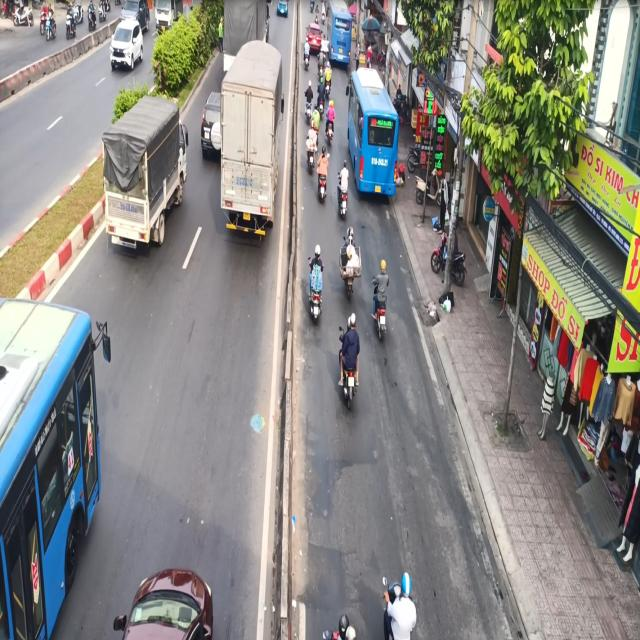bus: (346, 66, 405, 196), (326, 0, 355, 70)
motor: (338, 300, 367, 414), (368, 257, 396, 348), (340, 220, 360, 312), (308, 236, 324, 320)
truck: (99, 87, 189, 266), (222, 43, 290, 248)
